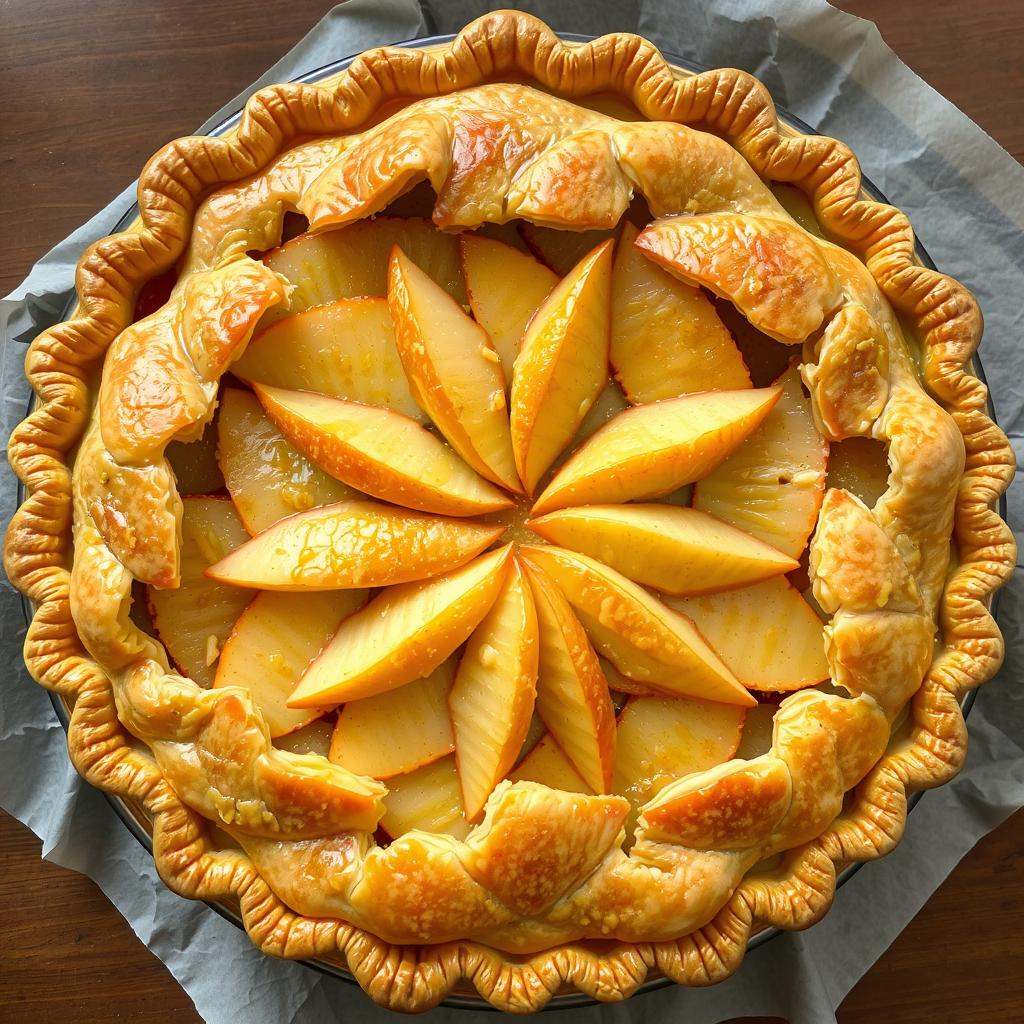cake: (3, 6, 1024, 1014)
